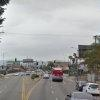Car: (74, 76, 100, 98)
